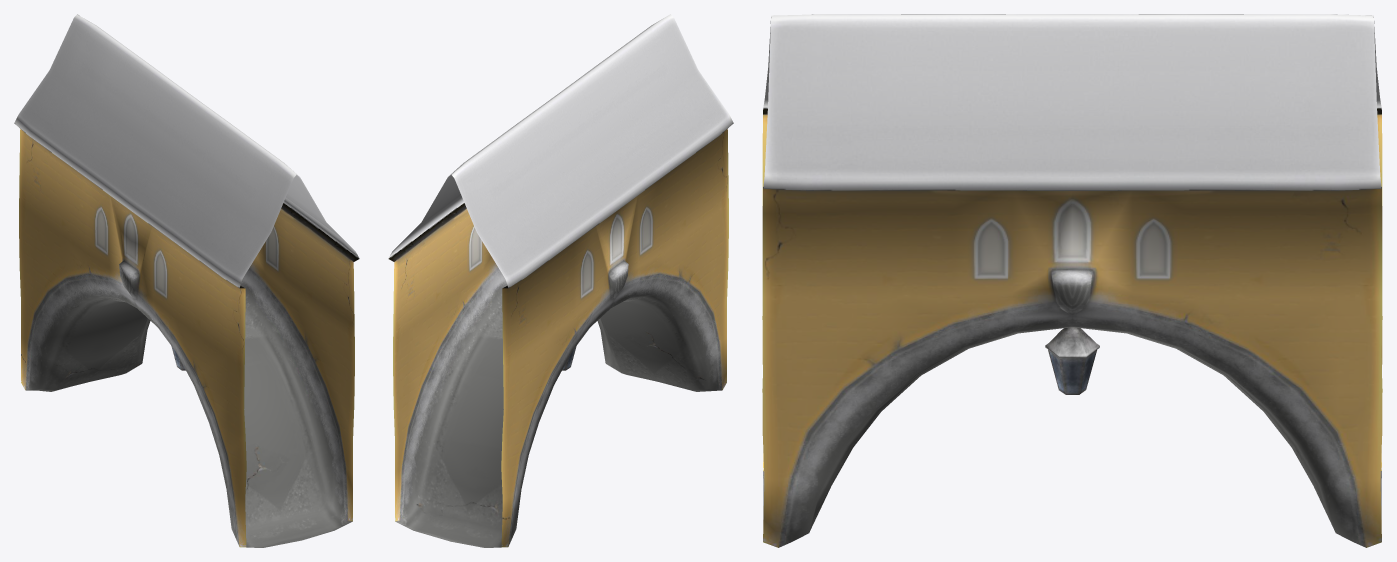
File: Arch-1.FBX
The picture shows the model from 3 angles, left to right: view 1: azimuth 30°, elevation 25°; view 2: azimuth 150°, elevation 25°; view 3: azimuth 270°, elevation 25°; orthographic projection. The views are drawn at different scales.
Visible parts, largest first — view 1: Arch-1; view 2: Arch-1; view 3: Arch-1.
Boxes of the visible parts, box(x1,y1,x2,y2) form: Arch-1: box(14, 14, 359, 547); Arch-1: box(388, 14, 733, 547); Arch-1: box(762, 14, 1382, 547).
Size of the model in its own units: 85.45 by 240 by 267.
Materials: 1 (1 with a texture image).
